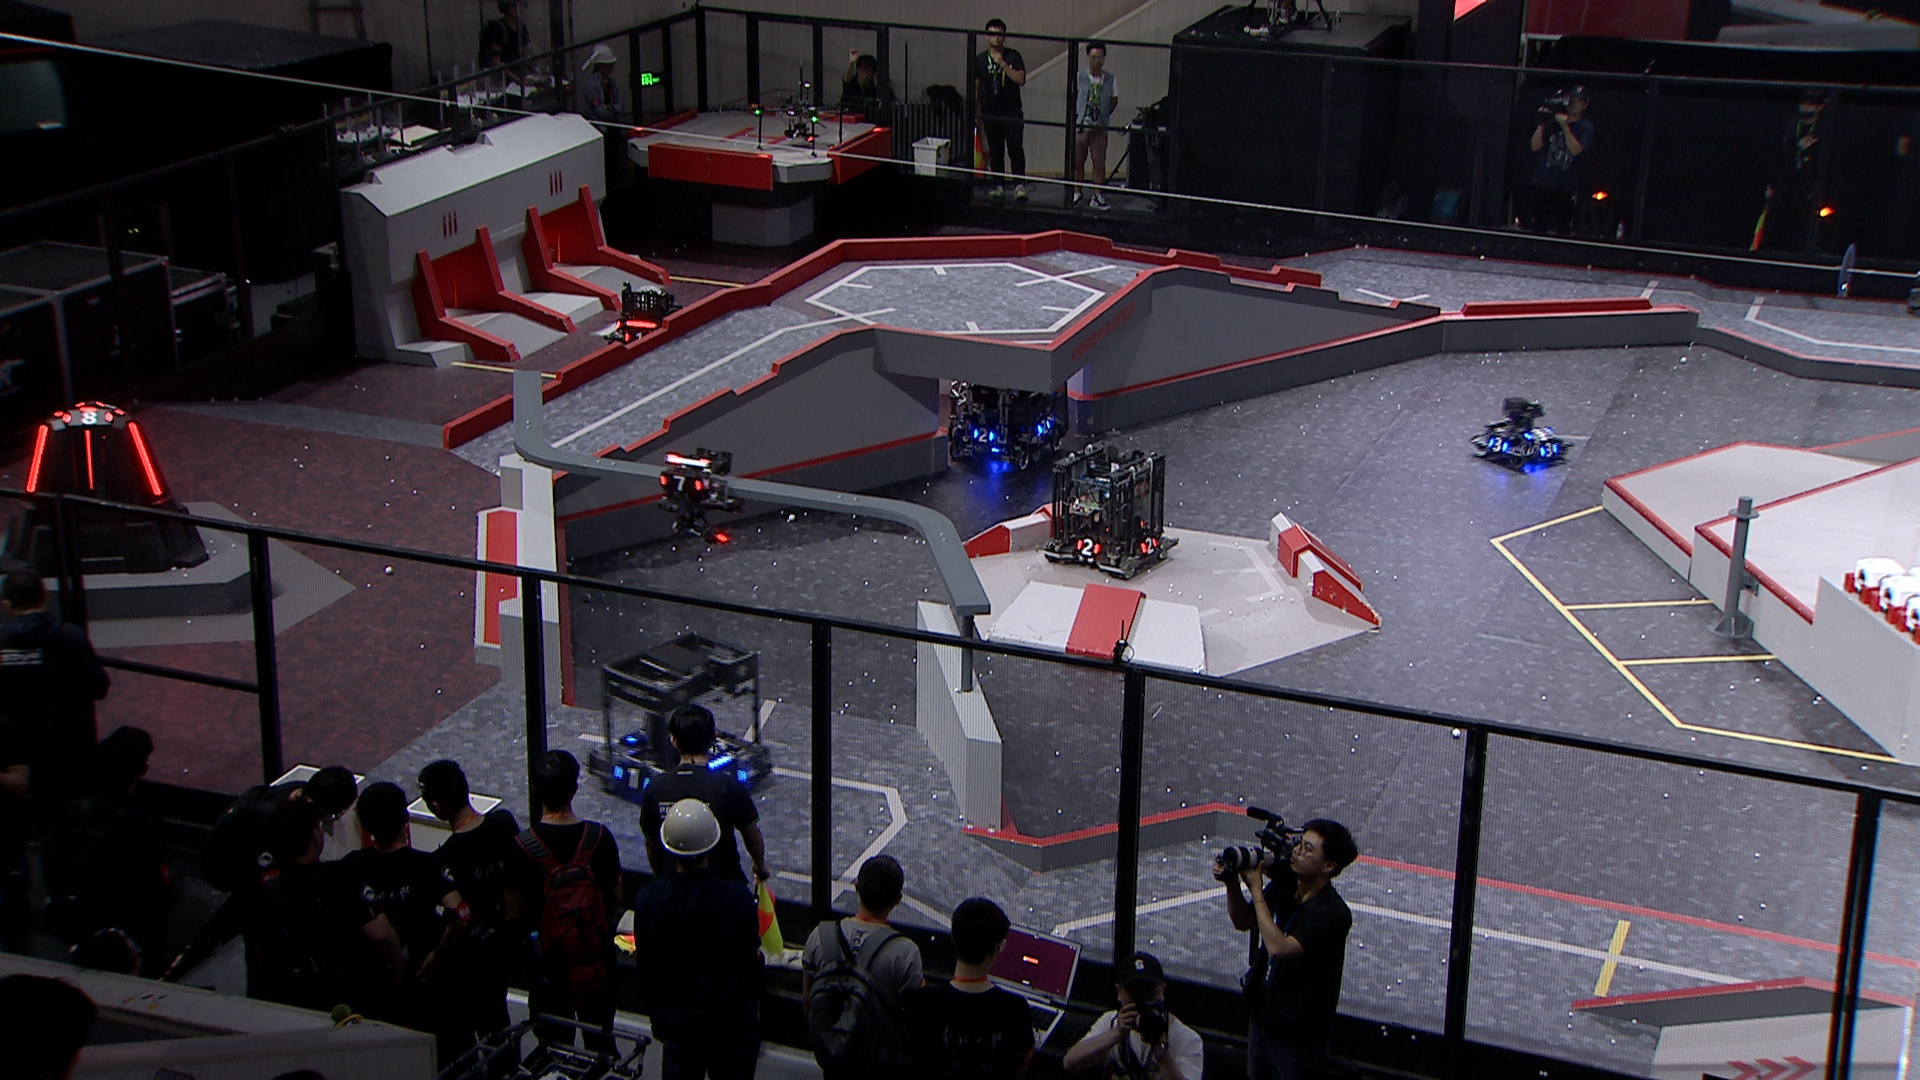armor: (127, 419, 164, 498), (24, 423, 47, 493), (657, 471, 699, 495), (83, 425, 96, 491), (57, 409, 107, 425), (618, 765, 647, 790), (972, 425, 997, 444), (731, 767, 752, 789), (1536, 442, 1561, 456), (624, 328, 645, 345), (1524, 423, 1551, 436), (626, 727, 647, 742), (1489, 436, 1509, 452), (1036, 415, 1051, 436), (1073, 541, 1098, 553), (1141, 538, 1160, 553)
base: (1, 400, 211, 579)
car: (582, 632, 775, 815), (1036, 438, 1182, 579), (939, 343, 1076, 469), (1468, 400, 1572, 472), (603, 286, 692, 361)
watcher: (651, 443, 741, 550)
